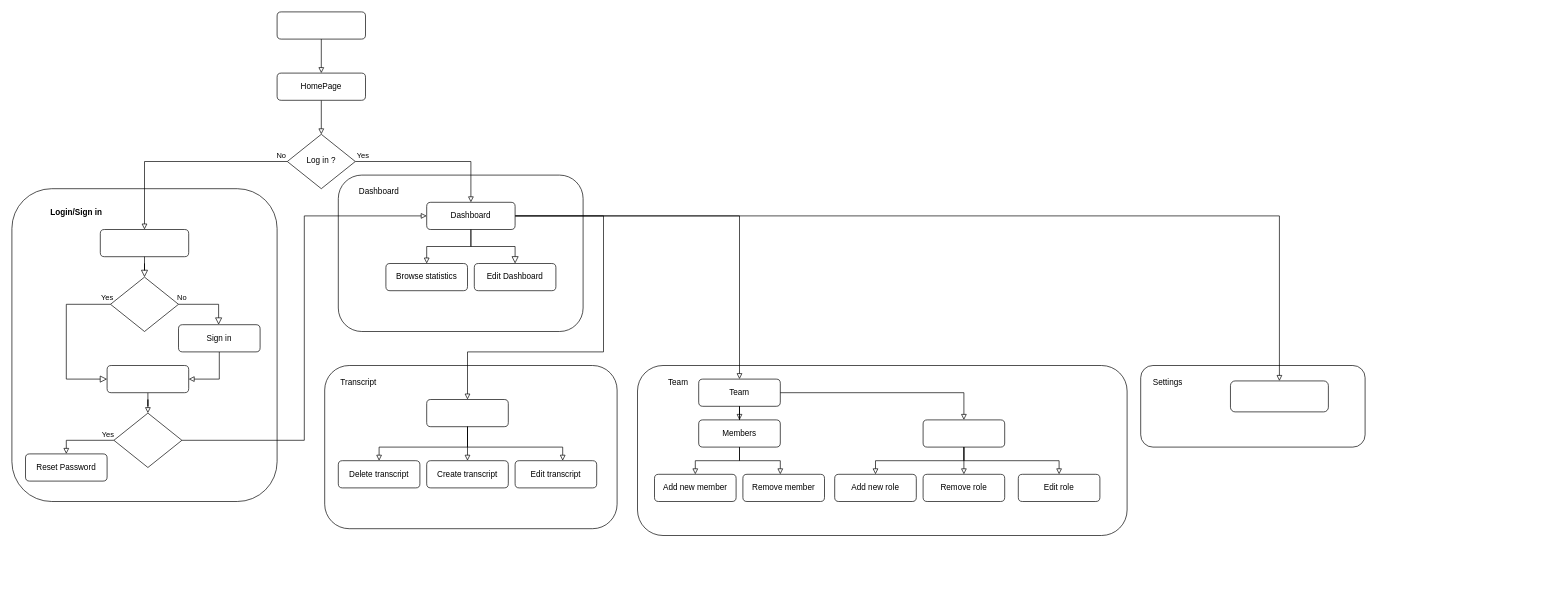
Some shapes in this 1561 by 602 pixel diagram are drawn without their labels. Here are the shapes that lost their labels. From the top down, the centre of each, then its label:
At point 321,25: "Start".
At point 144,243: "Login or Sign in".
At point 144,304: "Signed up ?".
At point 147,379: "Connexion".
At point 1279,396: "Browse settings".
At point 467,413: "Browse Transcript".
At point 963,433: "Roles".
At point 147,440: "Forgot Password ?".
